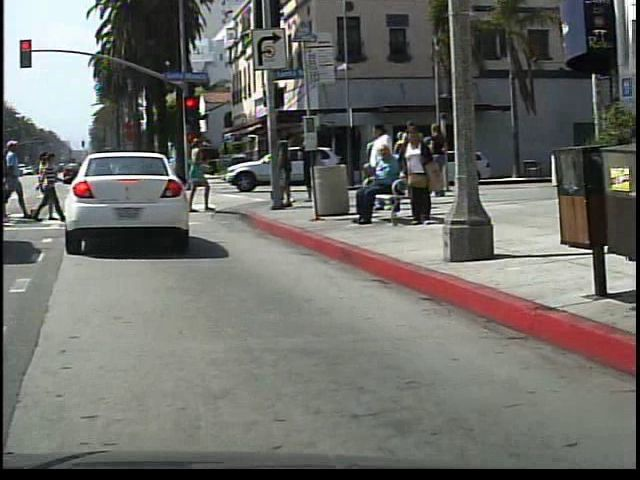person: (354, 146, 410, 226), (403, 125, 440, 225), (187, 134, 215, 214)
